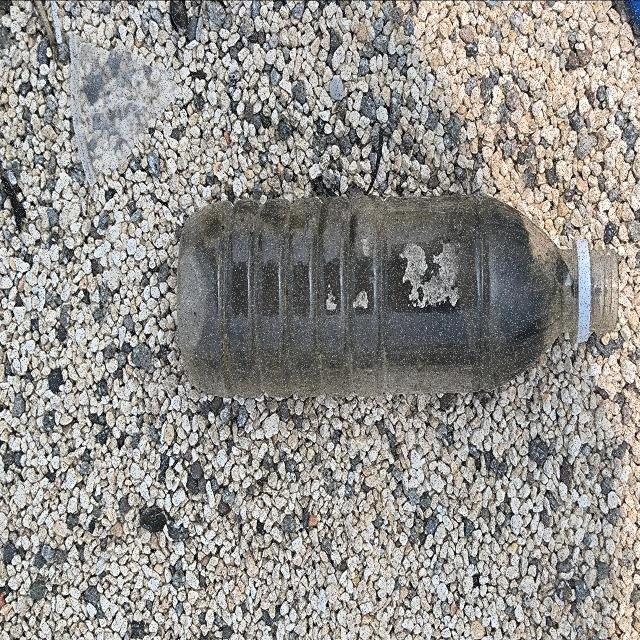plastic_waste: (176, 197, 620, 402)
